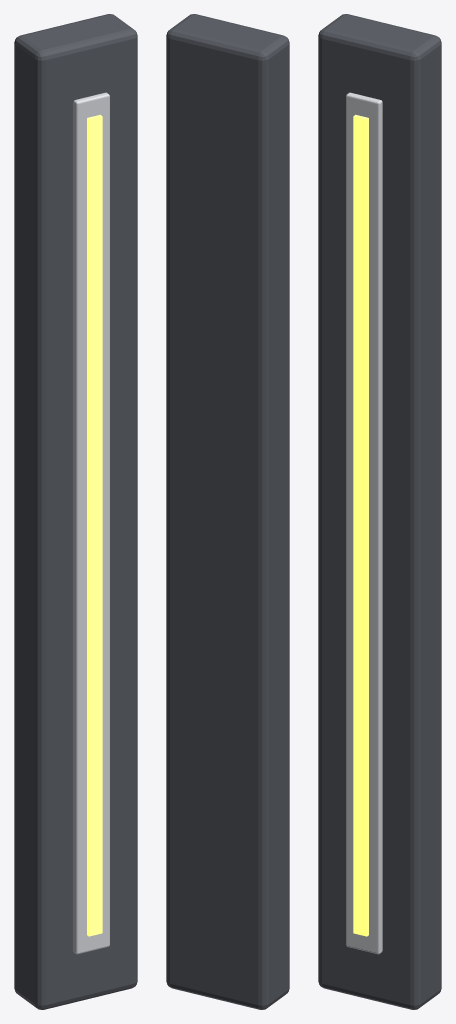
File: pilaster_strut_light.glb
3 views of the same model, side by side, from view 1: azimuth 30°, elevation 25°; view 2: azimuth 150°, elevation 25°; view 3: azimuth 330°, elevation 25° (orthographic).
Visible parts, largest first — view 1: GD_pilaster_strut_light__m0, GD_pilaster_strut_light__m1, GD_pilaster_strut_light__m2; view 2: GD_pilaster_strut_light__m0; view 3: GD_pilaster_strut_light__m0, GD_pilaster_strut_light__m1, GD_pilaster_strut_light__m2.
Part boxes in pixels (x1,y1,x2,y2): GD_pilaster_strut_light__m0: (14,14,137,1009); GD_pilaster_strut_light__m1: (73,92,109,954); GD_pilaster_strut_light__m2: (87,114,102,936); GD_pilaster_strut_light__m0: (166,14,289,1009); GD_pilaster_strut_light__m0: (318,14,441,1009); GD_pilaster_strut_light__m1: (346,92,382,954); GD_pilaster_strut_light__m2: (353,114,368,936).
Bounding box in the file's own units: 0.3 × 2.7 × 0.171.
